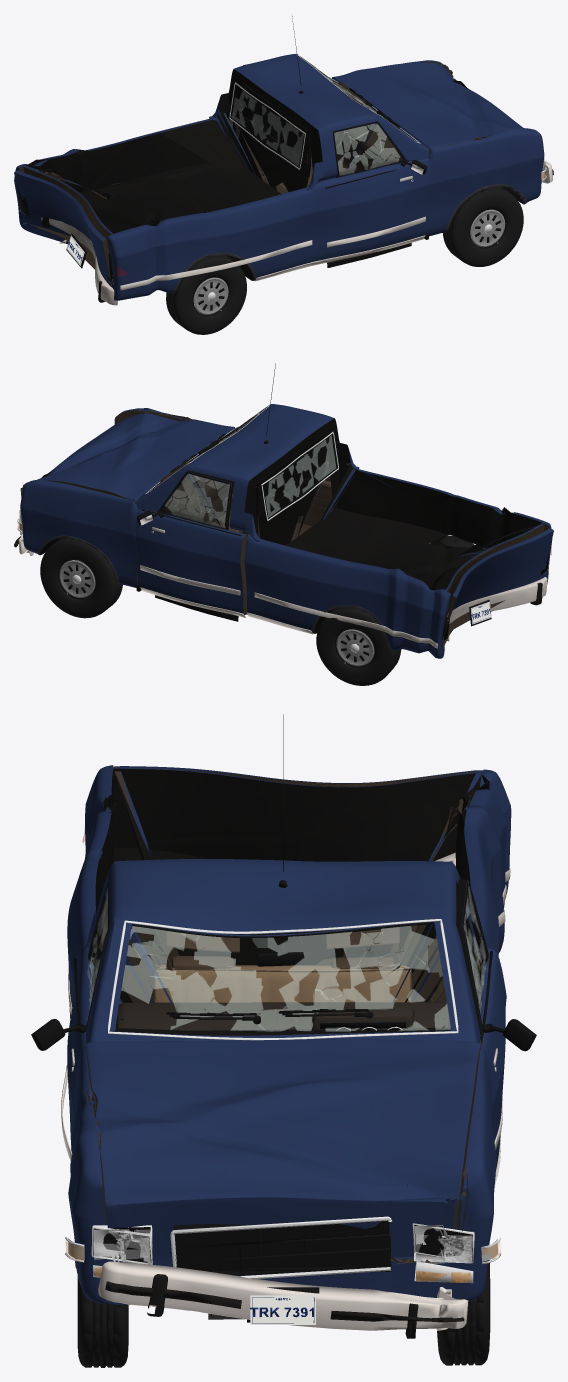
Rendered from pickup87_rear_d1_lod1.glb.
3 renders of one model, top to bottom at view 1: azimuth 30°, elevation 25°; view 2: azimuth 150°, elevation 25°; view 3: azimuth 270°, elevation 25°, orthographic. The views are drawn at different scales.
Parts seen in each view (by area): view 1: Body, Hood, Wheel_FR_mesh, Wheel_RR_mesh, Door_FR, Tailgate, Glass, Interior, Trim, Trim_FR, Glass_FR, Bumper_R (+1 smaller); view 2: Body, Hood, Door_FL, Wheel_FL_mesh, Wheel_RL_mesh, Tailgate, Glass, Interior, Trim, Trim_FL, Glass_FL, Bumper_R (+2 smaller); view 3: Body, Hood, Interior, Glass, Ends, Bumper_F, Door_FL, Wheel_FR_mesh, Wheel_FL_mesh, Lamps_Head, Trim_FL, Trim (+4 smaller).
Boxes of the visible parts, bbox=[...] form: Body: bbox=[14, 54, 544, 300]; Hood: bbox=[332, 63, 522, 153]; Wheel_FR_mesh: bbox=[443, 186, 523, 266]; Wheel_RR_mesh: bbox=[166, 255, 246, 334]; Door_FR: bbox=[318, 124, 427, 258]; Tailgate: bbox=[14, 170, 111, 287]; Glass: bbox=[229, 55, 420, 169]; Interior: bbox=[279, 82, 401, 189]; Trim: bbox=[120, 16, 526, 293]; Trim_FR: bbox=[319, 121, 427, 267]; Glass_FR: bbox=[334, 124, 403, 177]; Bumper_R: bbox=[41, 216, 117, 305]; Body: bbox=[20, 404, 552, 658]; Hood: bbox=[37, 413, 234, 504]; Door_FL: bbox=[135, 470, 247, 615]; Wheel_FL_mesh: bbox=[40, 538, 122, 618]; Wheel_RL_mesh: bbox=[316, 607, 401, 685]; Tailgate: bbox=[442, 528, 553, 647]; Glass: bbox=[145, 405, 338, 520]; Interior: bbox=[160, 463, 239, 531]; Trim: bbox=[37, 363, 437, 650]; Trim_FL: bbox=[136, 471, 245, 621]; Glass_FL: bbox=[161, 471, 232, 530]; Bumper_R: bbox=[449, 577, 547, 623]; Body: bbox=[67, 765, 511, 1304]; Hood: bbox=[85, 1039, 480, 1264]; Interior: bbox=[116, 927, 450, 1030]; Glass: bbox=[108, 919, 458, 1040]; Ends: bbox=[65, 1216, 501, 1324]; Bumper_F: bbox=[98, 1261, 468, 1338]; Door_FL: bbox=[456, 879, 506, 1169]; Wheel_FR_mesh: bbox=[77, 1276, 128, 1367]; Wheel_FL_mesh: bbox=[437, 1260, 490, 1365]; Lamps_Head: bbox=[93, 1229, 471, 1263]; Trim_FL: bbox=[462, 881, 536, 1185]; Trim: bbox=[68, 714, 510, 1285].
Bounding box in the file's own units: 4.83 × 2.57 × 2.34.
Materials: 34 (5 with a texture image).
